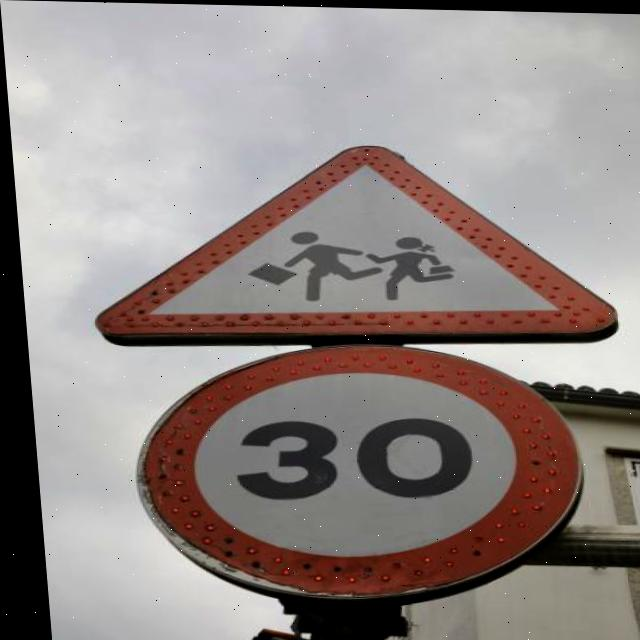Speed limit 30: (116, 337, 588, 608)
